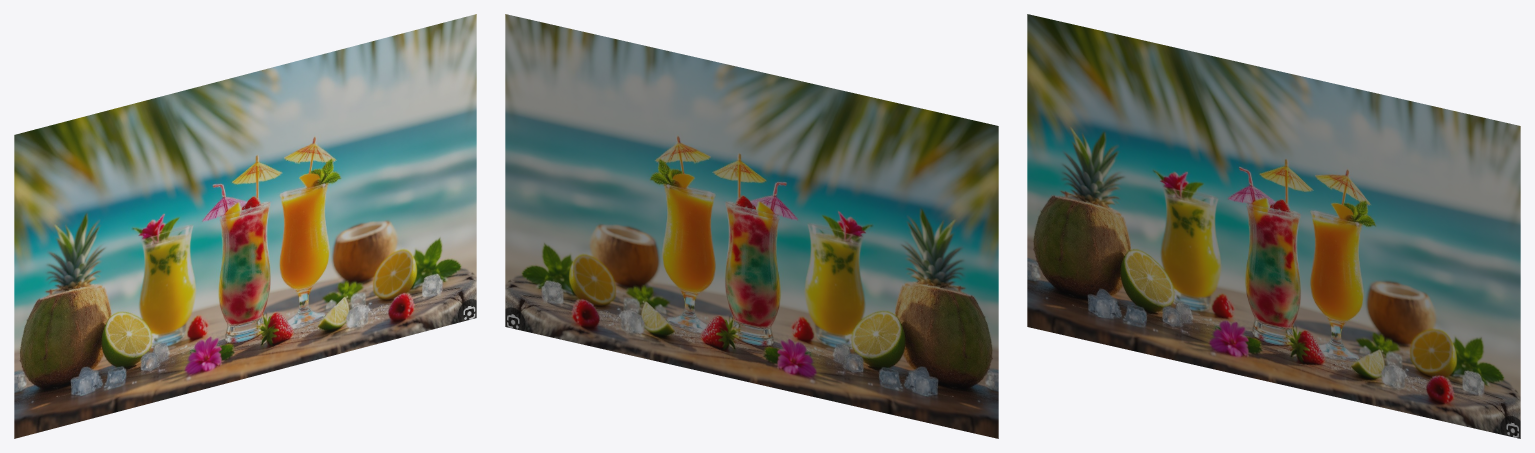
The model's file is Bilboard.fbx.
3 renders of one model, left to right at view 1: azimuth 30°, elevation 25°; view 2: azimuth 150°, elevation 25°; view 3: azimuth 330°, elevation 25°, orthographic. The views are drawn at different scales.
Parts seen in each view (by area): view 1: Bar.001; view 2: Bar.001; view 3: Bar.001.
Part boxes in pixels (box(x1,y1,x2,y2)): Bar.001: box(14, 14, 476, 438); Bar.001: box(505, 14, 998, 438); Bar.001: box(1027, 14, 1520, 438).
Size of the model in its own units: 360 by 222 by 10.99.
1 material, 1 textured.
